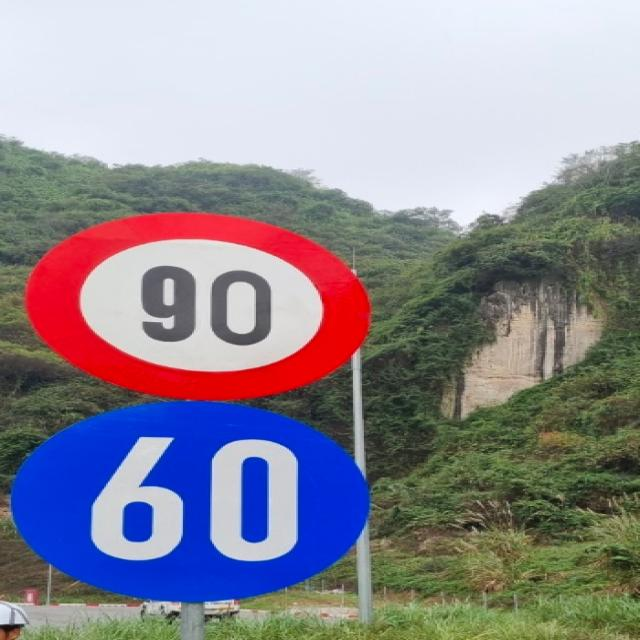Speed Limit -90-: (21, 207, 377, 403)
